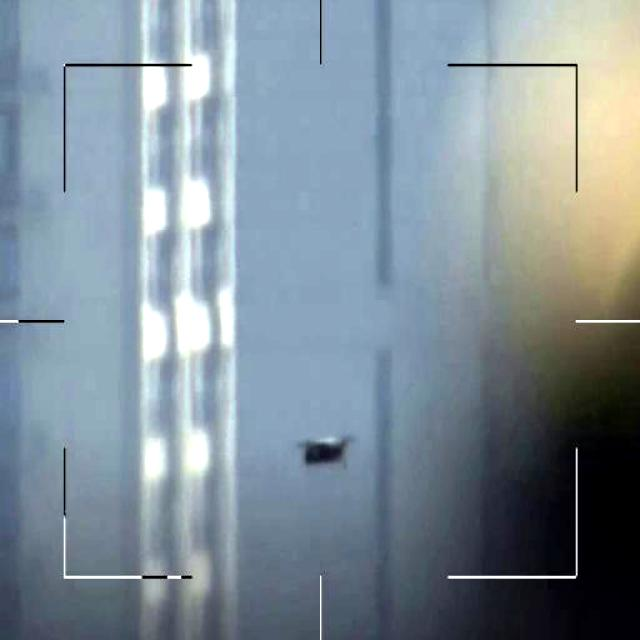bird: (301, 432, 355, 470)
